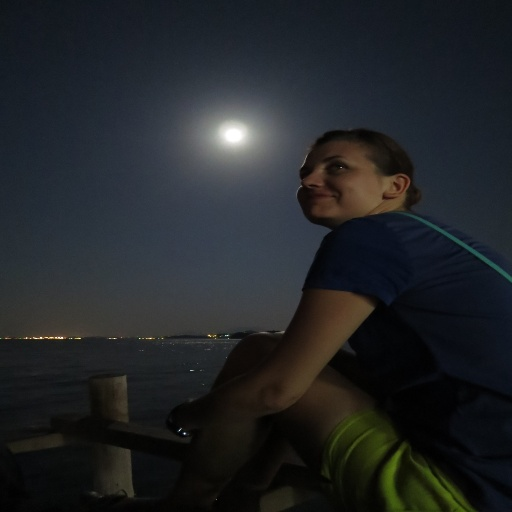hand: (167, 398, 197, 439)
